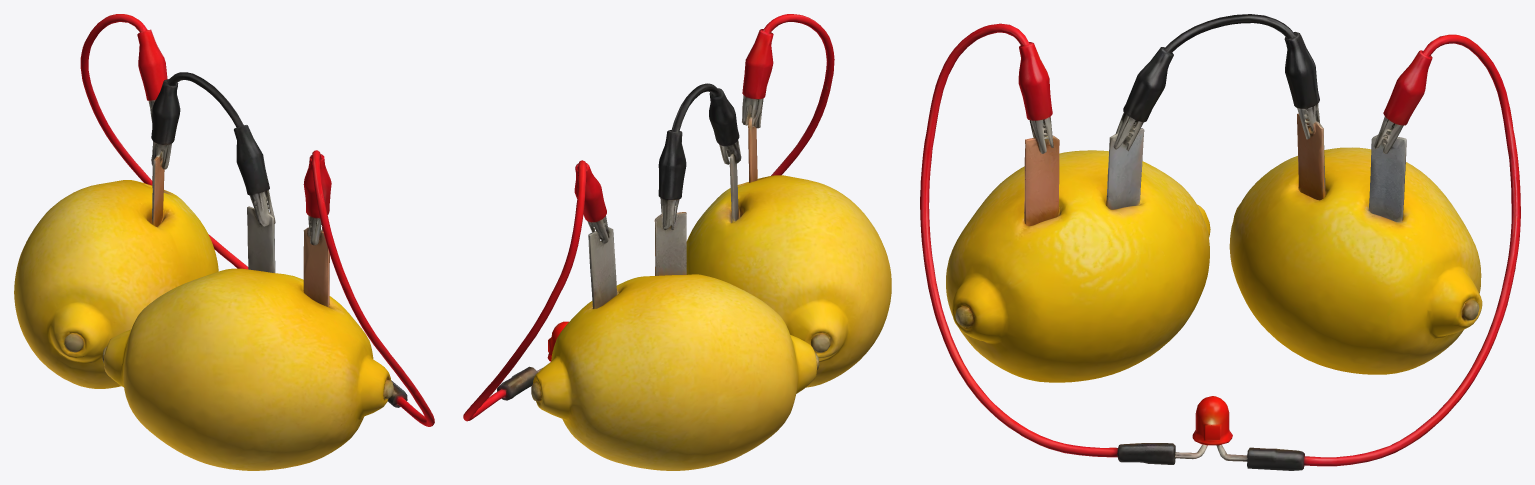
Rendered from lemon-battery.glb.
The picture shows the model from 3 angles, left to right: view 1: azimuth 30°, elevation 25°; view 2: azimuth 150°, elevation 25°; view 3: azimuth 270°, elevation 25°; orthographic projection. The views are drawn at different scales.
Visible parts, largest first — view 1: lemon-battery; view 2: lemon-battery; view 3: lemon-battery.
Part boxes in pixels (bbox=[...]): lemon-battery: bbox=[14, 14, 434, 470]; lemon-battery: bbox=[463, 14, 891, 470]; lemon-battery: bbox=[920, 14, 1520, 470].
Bounding box in the file's own units: 0.1963 × 0.2023 × 0.3.
1 material, 1 textured.
